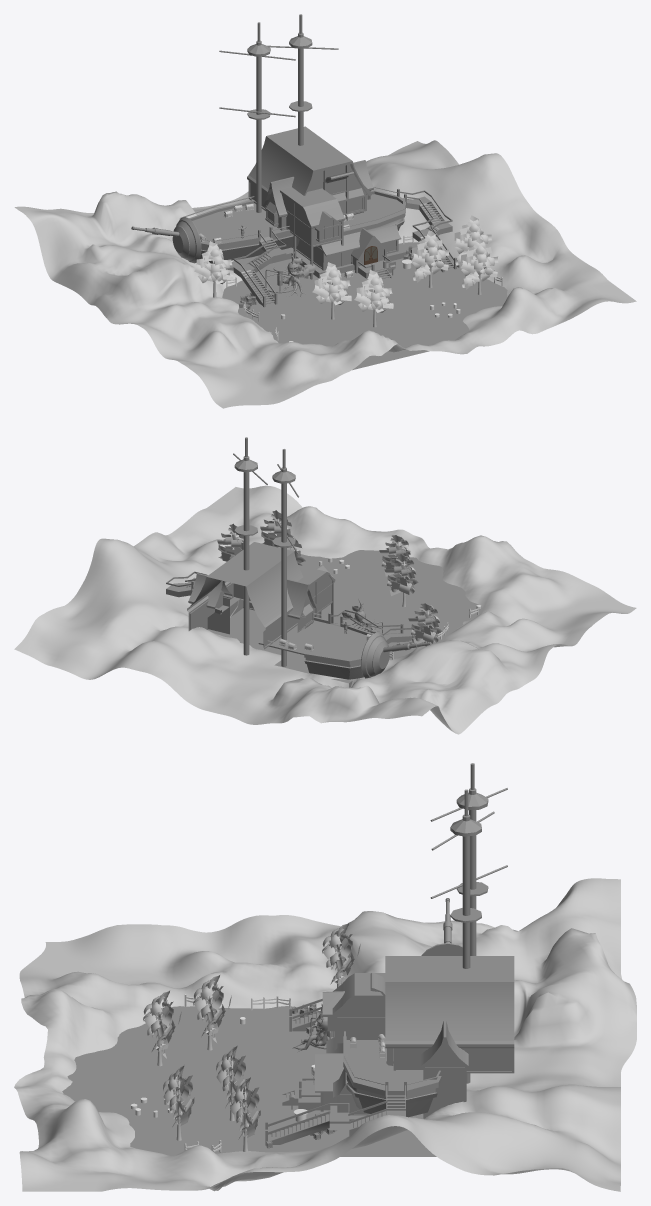
Rendered from outside.FBX.
The picture shows the model from 3 angles, top to bottom: view 1: azimuth 30°, elevation 25°; view 2: azimuth 150°, elevation 25°; view 3: azimuth 270°, elevation 25°; orthographic projection. The views are drawn at different scales.
Visible parts, largest first — view 1: side_ground_movingX, house, play_ground, tree__L_leaf_answer, tree__L_leaf_nomal001, tree_R_leaf_nomal001, tree_R_leaf_answer, tree_R_leaf_nomal, insami_body, tree__L_leaf_nomal; view 2: side_ground_movingX, house, play_ground, tree_R_leaf_nomal, tree_R_leaf_nomal001, tree_R_leaf_answer, tree__L_leaf_nomal, tree__L_leaf_nomal001; view 3: side_ground_movingX, house, play_ground, tree_R_leaf_answer, tree_R_leaf_nomal, tree_R_leaf_nomal001, tree__L_leaf_nomal, tree__L_leaf_nomal001, tree__L_leaf_answer, insami_body.
Boxes of the visible parts, bbox=[...] form: side_ground_movingX: bbox=[14, 140, 636, 408]; house: bbox=[131, 14, 456, 307]; play_ground: bbox=[222, 242, 507, 370]; tree__L_leaf_answer: bbox=[411, 230, 449, 282]; tree__L_leaf_nomal001: bbox=[460, 237, 498, 289]; tree_R_leaf_nomal001: bbox=[194, 241, 233, 284]; tree_R_leaf_answer: bbox=[354, 269, 393, 312]; tree_R_leaf_nomal: bbox=[312, 262, 351, 305]; insami_body: bbox=[263, 251, 304, 296]; tree__L_leaf_nomal: bbox=[454, 215, 491, 267]; side_ground_movingX: bbox=[14, 485, 636, 734]; house: bbox=[166, 437, 431, 687]; play_ground: bbox=[249, 550, 483, 659]; tree_R_leaf_nomal: bbox=[384, 554, 418, 595]; tree_R_leaf_nomal001: bbox=[408, 603, 442, 643]; tree_R_leaf_answer: bbox=[379, 535, 410, 576]; tree__L_leaf_nomal: bbox=[217, 523, 243, 561]; tree__L_leaf_nomal001: bbox=[260, 510, 295, 547]; side_ground_movingX: bbox=[14, 878, 636, 1191]; house: bbox=[265, 763, 514, 1145]; play_ground: bbox=[62, 1006, 436, 1156]; tree_R_leaf_answer: bbox=[143, 990, 181, 1058]; tree_R_leaf_nomal: bbox=[193, 975, 231, 1042]; tree_R_leaf_nomal001: bbox=[322, 923, 360, 984]; tree__L_leaf_nomal: bbox=[229, 1077, 260, 1139]; tree__L_leaf_nomal001: bbox=[163, 1065, 194, 1126]; tree__L_leaf_answer: bbox=[216, 1045, 246, 1107]; insami_body: bbox=[292, 1003, 334, 1052].
Size of the model in its own units: 5559 by 2984 by 5343.
